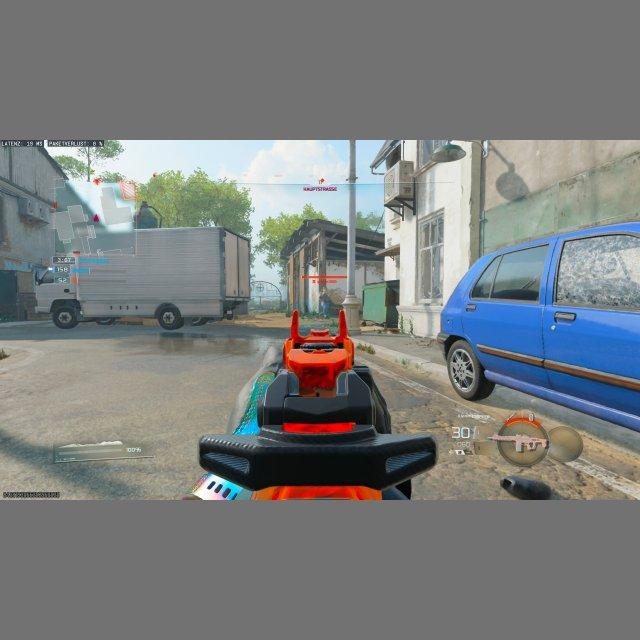player: (319, 289, 330, 318)
